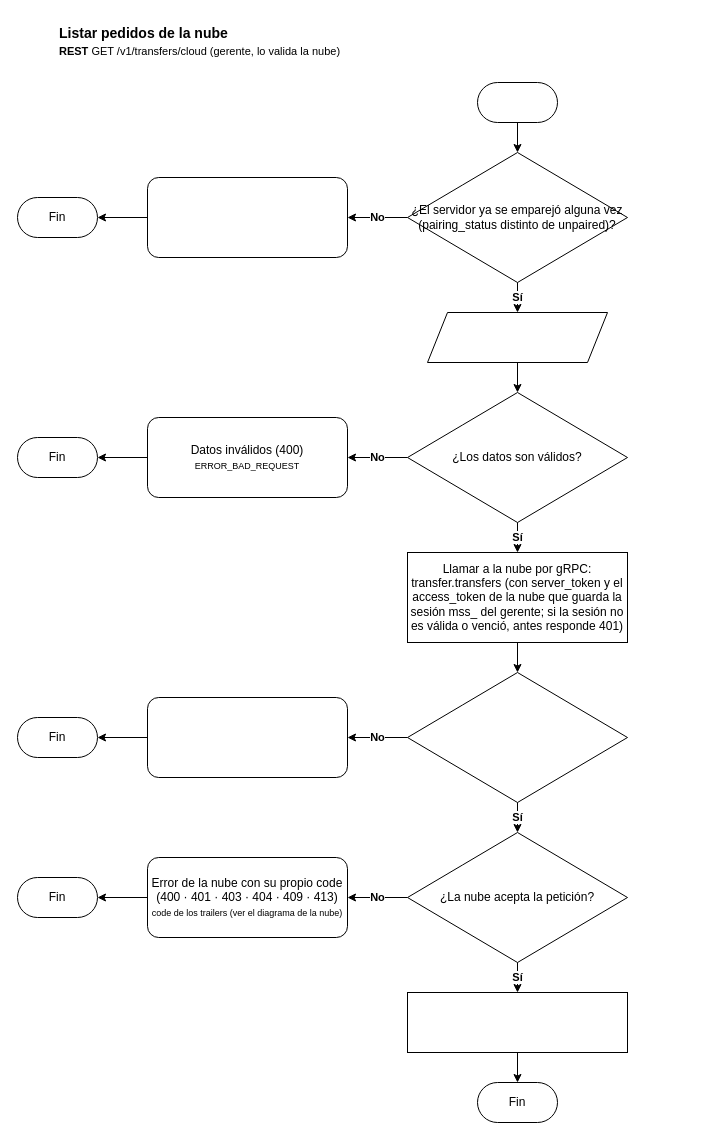
This 715x1140 diagram has some shape labels left out. The centre of each missing label's shape, as x and y in pixels:
"Inicio" belongs at point 517,102.
"La nube no responde (503) ERROR_CLOUD_UNAVAILABLE · ERROR_SERVER_UNLINKED" belongs at point 247,737.
"Recibir datos" belongs at point 517,337.
"Responder 200 con el mensaje TRANSFERS_RETRIEVED" belongs at point 517,1022.
"Servidor sin emparejar (409) ERROR_SERVER_NOT_PAIRED" belongs at point 247,217.
"¿La nube responde antes de 10 s?" belongs at point 517,737.
